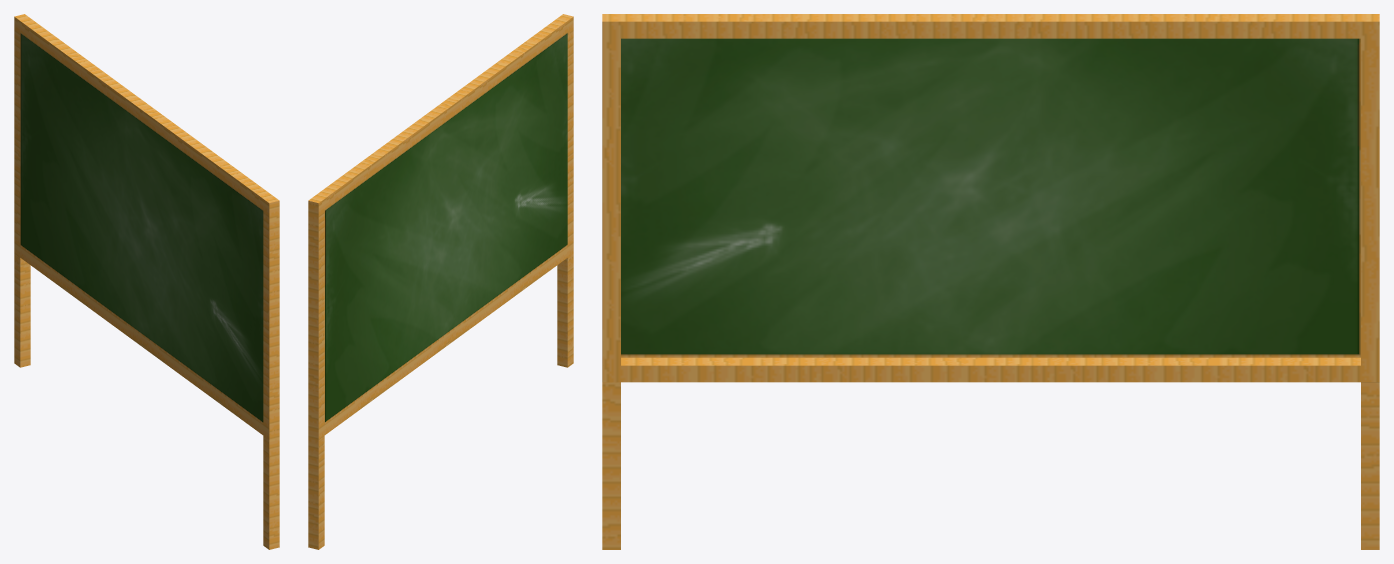
The model's file is blackboard.obj.
The picture shows the model from 3 angles, left to right: view 1: azimuth 30°, elevation 25°; view 2: azimuth 150°, elevation 25°; view 3: azimuth 270°, elevation 25°; orthographic projection. The views are drawn at different scales.
Size of the model in its own units: 0.1 by 3.15 by 4.2.
